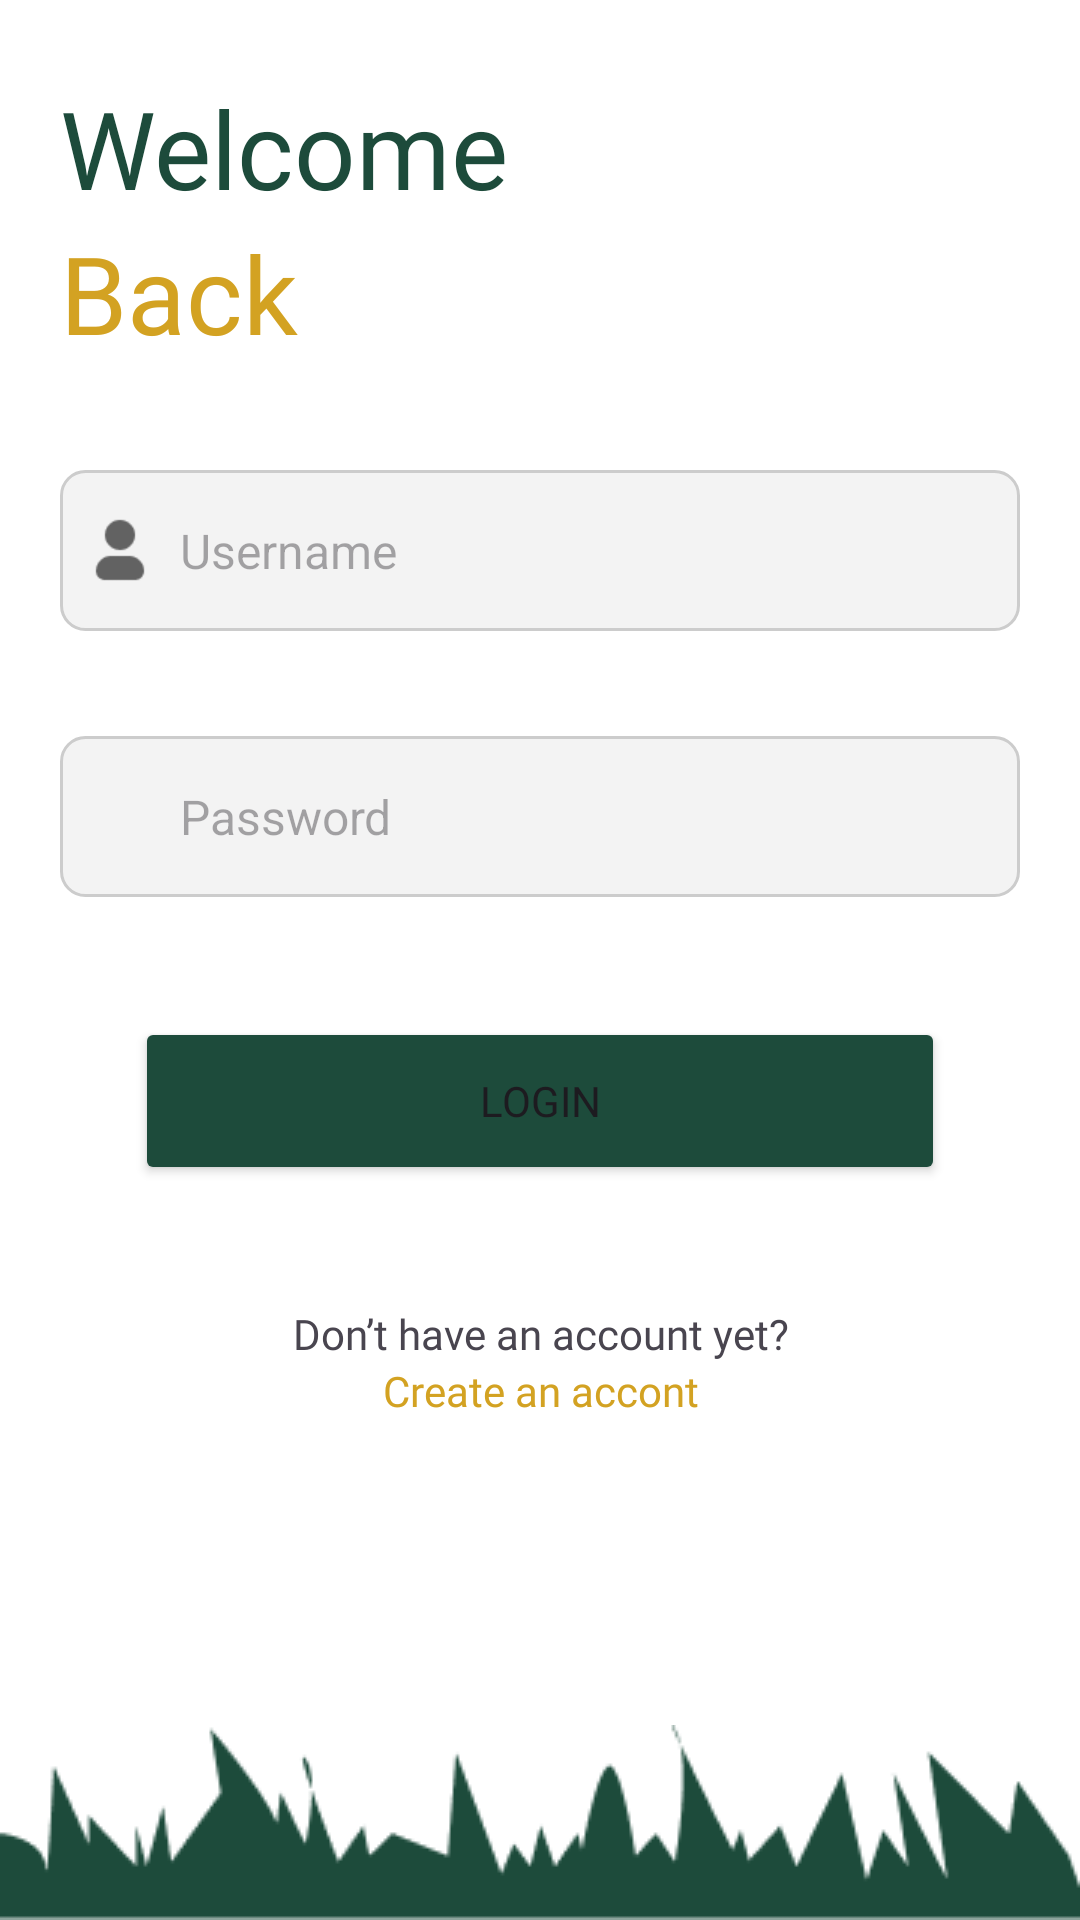

Point at icon controls on the screen. Image size 1080*1920, points as (x,y).
user log regis: (120,550)
